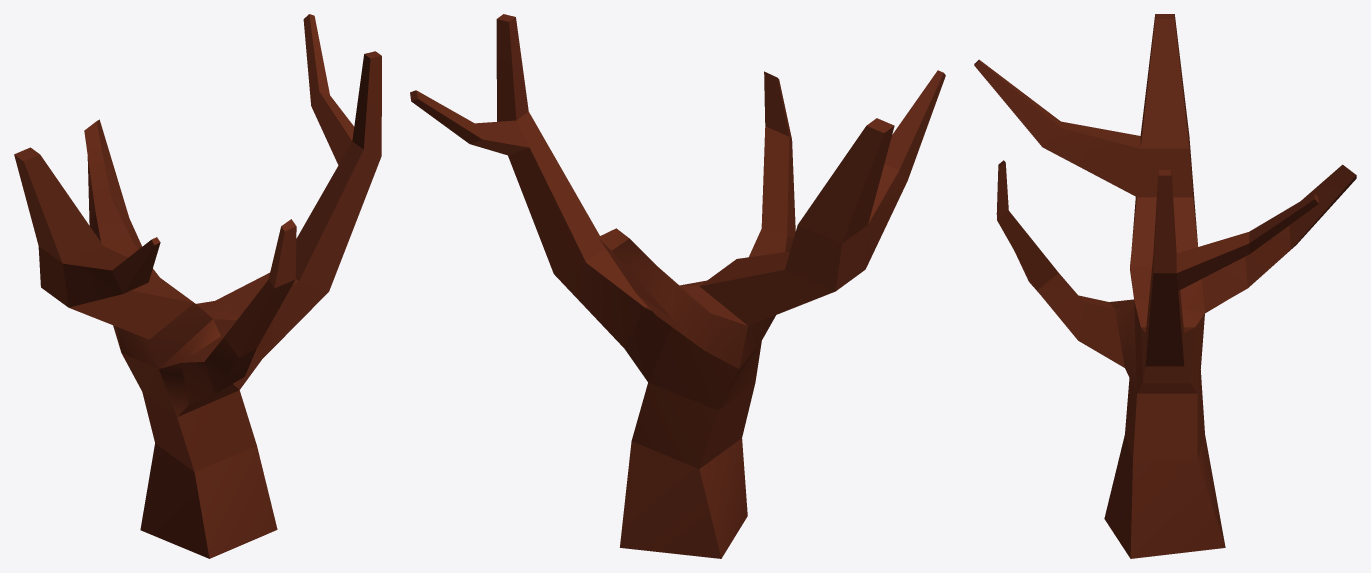
Rendered from DeadBigTree.dae.
The picture shows the model from 3 angles, left to right: view 1: azimuth 30°, elevation 25°; view 2: azimuth 150°, elevation 25°; view 3: azimuth 270°, elevation 25°; orthographic projection. The views are drawn at different scales.
Parts seen in each view (by area): view 1: DeadOak3; view 2: DeadOak3; view 3: DeadOak3.
Boxes of the visible parts, x1,y1,x2,y2 form: DeadOak3: (14, 14, 381, 558); DeadOak3: (410, 14, 945, 558); DeadOak3: (974, 14, 1356, 558).
Size of the model in its own units: 8.49 by 7.48 by 9.55.
